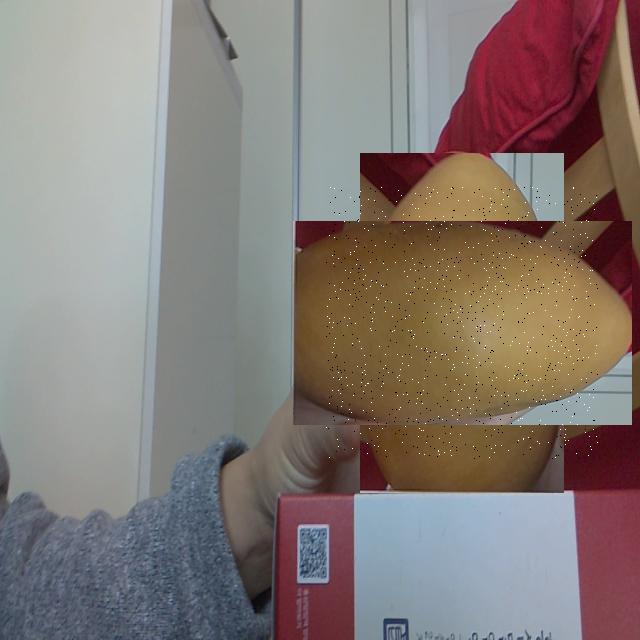pear: (326, 187, 598, 459)
